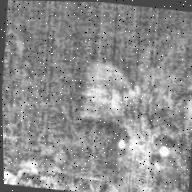boar: (65, 58, 192, 192)
